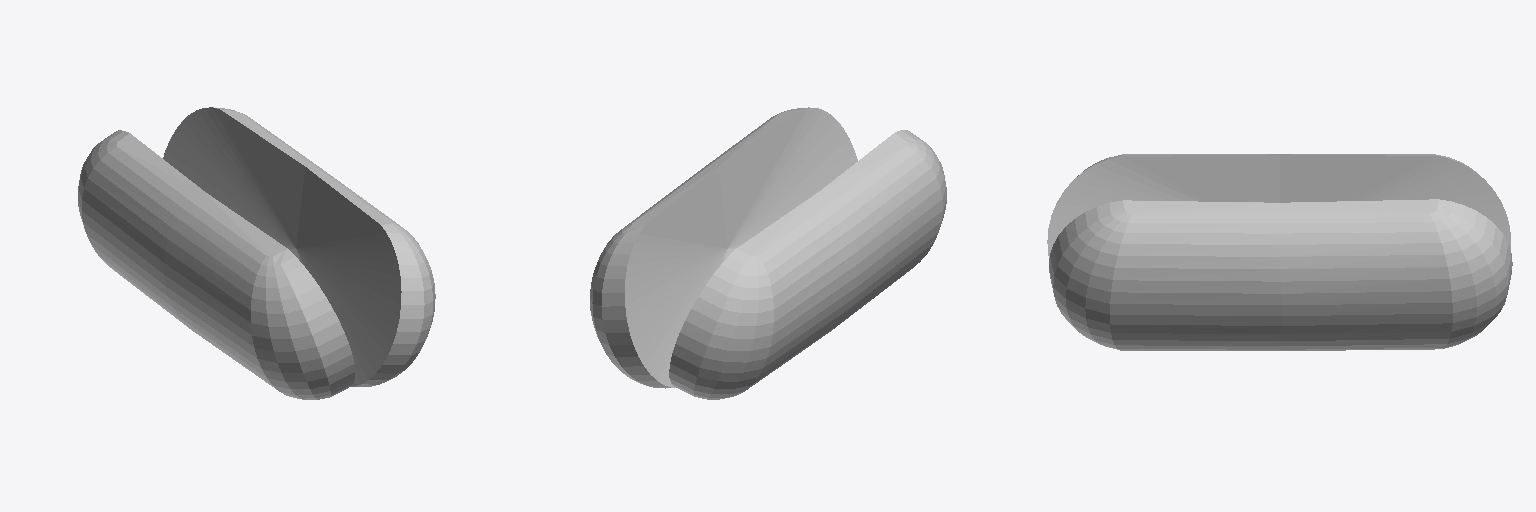
The model's file is HotDogBun.obj.
The picture shows the model from 3 angles: view 1: azimuth 30°, elevation 25°; view 2: azimuth 150°, elevation 25°; view 3: azimuth 270°, elevation 25°; orthographic projection.
Parts seen in each view (by area): view 1: pSphere4; view 2: pSphere4; view 3: pSphere4.
Boxes of the visible parts, x1,y1,x2,y2 form: pSphere4: [78, 107, 435, 399]; pSphere4: [590, 107, 946, 399]; pSphere4: [1047, 154, 1512, 350].
Size of the model in its own units: 2.44 by 1.97 by 5.32.